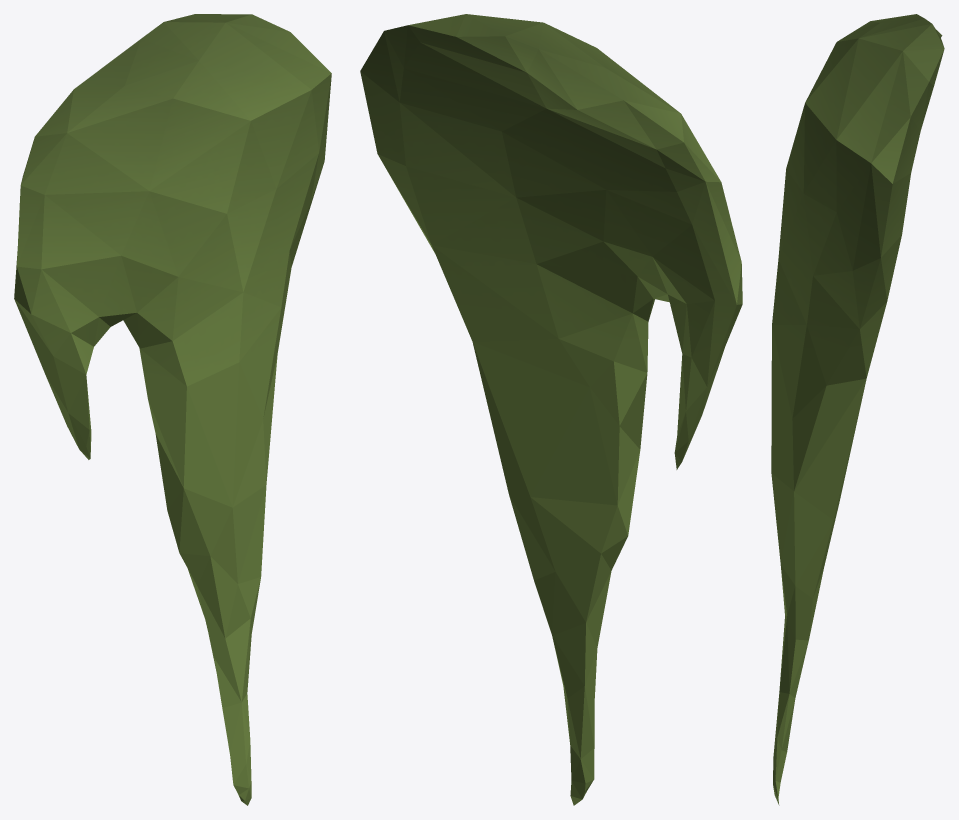
The model's file is Jungle_HangingBush_C.fbx.
3 renders of one model, left to right at view 1: azimuth 30°, elevation 25°; view 2: azimuth 150°, elevation 25°; view 3: azimuth 270°, elevation 25°, orthographic. The views are drawn at different scales.
Visible parts, largest first — view 1: Jungle_HangingBush_C; view 2: Jungle_HangingBush_C; view 3: Jungle_HangingBush_C.
Part boxes in pixels (x1,y1,x2,y2): Jungle_HangingBush_C: [14, 14, 331, 805]; Jungle_HangingBush_C: [360, 14, 742, 805]; Jungle_HangingBush_C: [771, 14, 944, 805].
Bounding box in the file's own units: 2.52 × 5.46 × 1.1.
